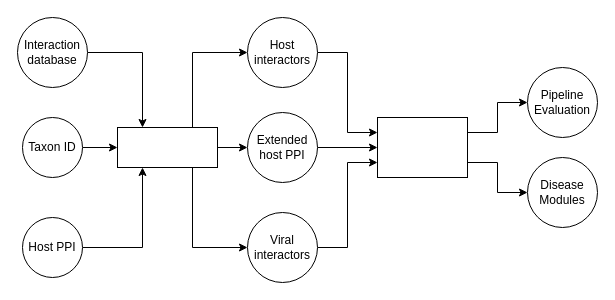
Some shapes in this 615 by 300 pixel diagram are drawn without their labels. Each missing label, with the centre of its shape:
"Disease Module Discovery pipeline" goes at point (422, 147).
"Filtering and selection" goes at point (167, 147).
